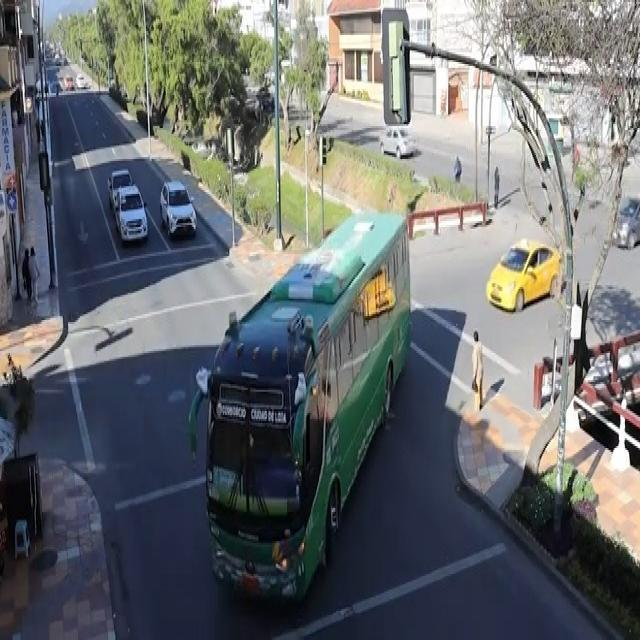BUS: (193, 222, 409, 614)
SED: (483, 236, 563, 316)
